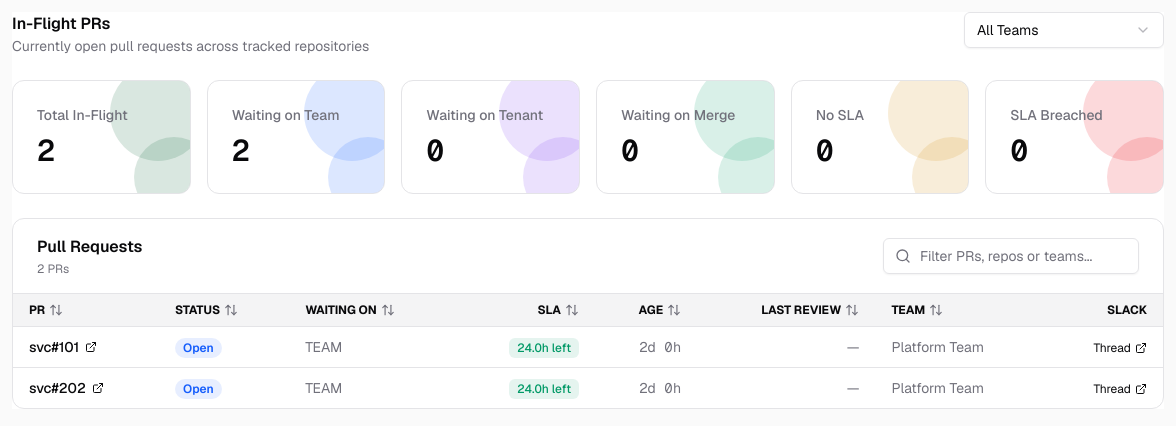
Test case: InFlightPrsTab › Search › should filter by PR number
Type "202" into the field with placeholder "Filter PRs, repos or teams...". click: [1011, 256]
box: [883,238,1139,274]
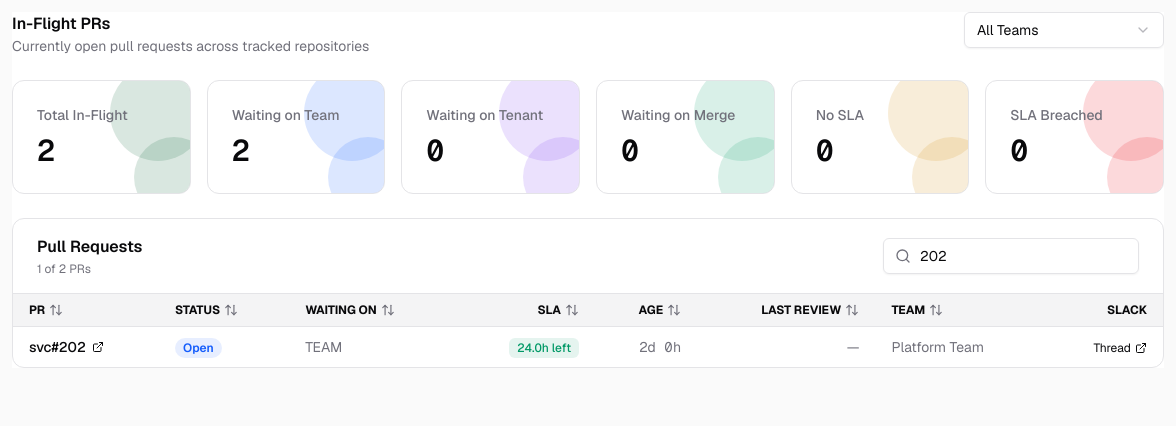
Check: the link "svc#202" is shown, box [29,337,104,357]
Check: the link "svc#101" is gone
